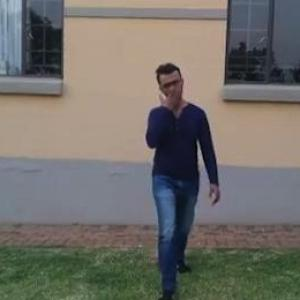follow: (140, 64, 205, 274)
